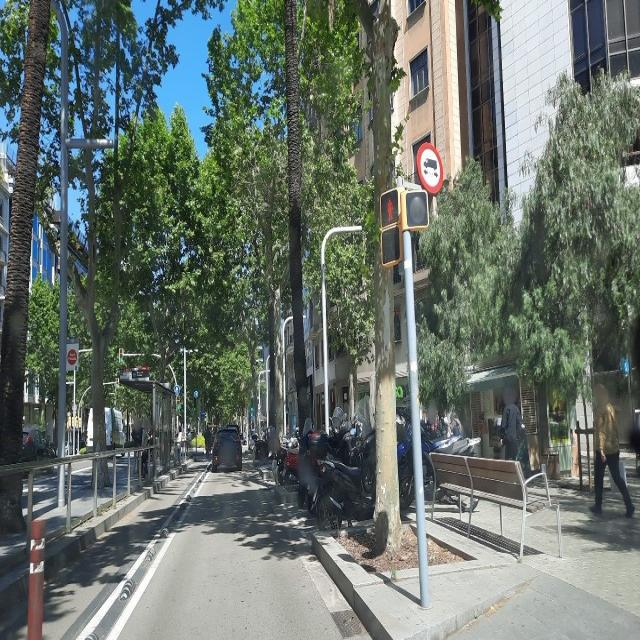bike: (318, 412, 380, 532), (294, 404, 347, 509), (255, 430, 278, 460)
car: (211, 426, 243, 474), (22, 424, 56, 461)
